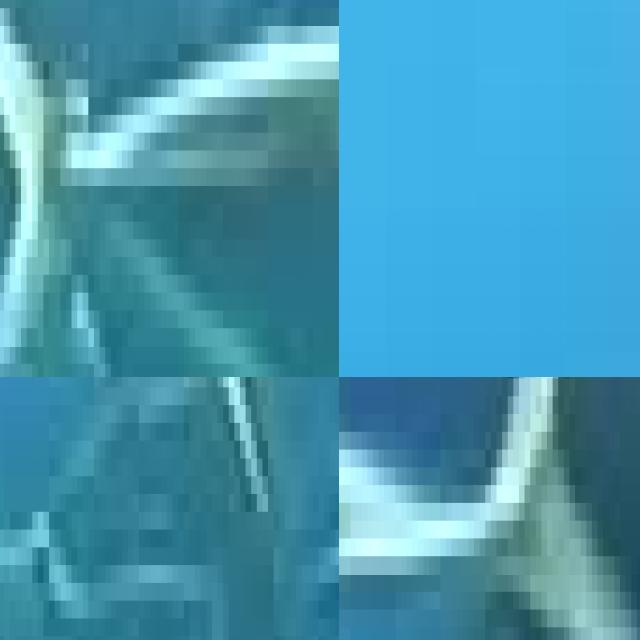fish: (0, 0, 339, 377), (375, 0, 640, 369)
